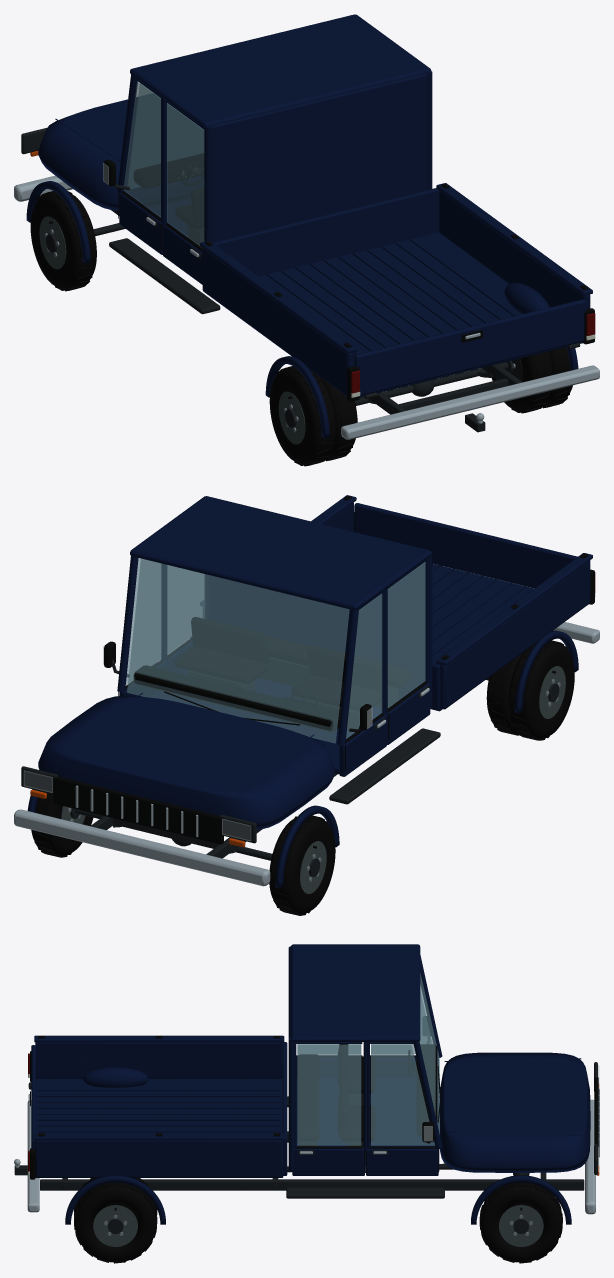
Rendered from HeavyDutyPickup.gltf.
The picture shows the model from 3 angles, top to bottom: view 1: azimuth 30°, elevation 25°; view 2: azimuth 150°, elevation 25°; view 3: azimuth 270°, elevation 25°; orthographic projection. The views are drawn at different scales.
Visible parts, largest first — view 1: HeavyDutyPickup__Body, HeavyDutyPickup__Tailgate, HeavyDutyPickup__Wheel_RL, HeavyDutyPickup__Wheel_FL, HeavyDutyPickup, HeavyDutyPickup__DriverDoorGlass, HeavyDutyPickup__Glass_Windshield, HeavyDutyPickup__Wheel_RR, HeavyDutyPickup__DriverDoor; view 2: HeavyDutyPickup__Body, HeavyDutyPickup__Glass_Windshield, HeavyDutyPickup, HeavyDutyPickup__Tailgate, HeavyDutyPickup__Wheel_RL, HeavyDutyPickup__Wheel_FL, HeavyDutyPickup__DriverDoorGlass, HeavyDutyPickup__DriverDoor, HeavyDutyPickup__Wheel_FR; view 3: HeavyDutyPickup__Body, HeavyDutyPickup, HeavyDutyPickup__Wheel_RR, HeavyDutyPickup__Wheel_FR, HeavyDutyPickup__Glass_Windshield, HeavyDutyPickup__DriverDoor, HeavyDutyPickup__DriverDoorGlass, HeavyDutyPickup__Tailgate.
Part boxes in pixels (x1,y1,x2,y2): HeavyDutyPickup__Body: [14, 14, 599, 439]; HeavyDutyPickup__Tailgate: [354, 299, 586, 395]; HeavyDutyPickup__Wheel_RL: [269, 366, 357, 466]; HeavyDutyPickup__Wheel_FL: [30, 191, 96, 291]; HeavyDutyPickup: [167, 103, 204, 246]; HeavyDutyPickup__DriverDoorGlass: [123, 81, 160, 217]; HeavyDutyPickup__Glass_Windshield: [128, 83, 203, 188]; HeavyDutyPickup__Wheel_RR: [491, 347, 572, 413]; HeavyDutyPickup__DriverDoor: [104, 78, 162, 254]; HeavyDutyPickup__Body: [14, 495, 599, 888]; HeavyDutyPickup__Glass_Windshield: [127, 558, 349, 743]; HeavyDutyPickup: [126, 558, 425, 707]; HeavyDutyPickup__Tailgate: [354, 503, 577, 588]; HeavyDutyPickup__Wheel_RL: [486, 640, 574, 740]; HeavyDutyPickup__Wheel_FL: [269, 814, 335, 915]; HeavyDutyPickup__DriverDoorGlass: [346, 594, 382, 738]; HeavyDutyPickup__DriverDoor: [339, 590, 386, 776]; HeavyDutyPickup__Wheel_FR: [31, 791, 93, 857]; HeavyDutyPickup__Body: [14, 944, 599, 1224]; HeavyDutyPickup: [297, 1044, 434, 1145]; HeavyDutyPickup__Wheel_RR: [74, 1178, 157, 1263]; HeavyDutyPickup__Wheel_FR: [479, 1182, 562, 1263]; HeavyDutyPickup__Glass_Windshield: [419, 973, 439, 1134]; HeavyDutyPickup__DriverDoor: [370, 1016, 438, 1077]; HeavyDutyPickup__DriverDoorGlass: [371, 997, 431, 1054]; HeavyDutyPickup__Tailgate: [28, 1045, 36, 1148].
Size of the model in its own units: 2.27 by 2.11 by 5.08.
3 materials, 1 textured.
